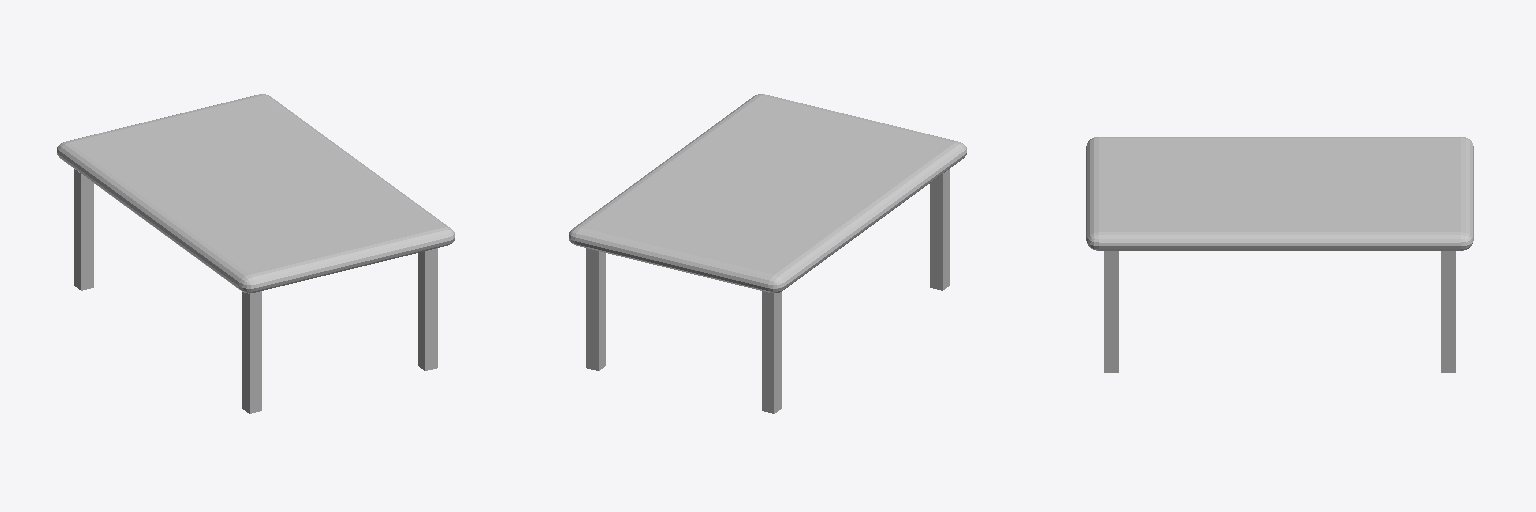
File: table.obj
3 renders of one model, left to right at view 1: azimuth 30°, elevation 25°; view 2: azimuth 150°, elevation 25°; view 3: azimuth 270°, elevation 25°, orthographic.
Parts seen in each view (by area): view 1: Tabletop_Cube.001, TableLegs_Cube.002; view 2: Tabletop_Cube.001, TableLegs_Cube.002; view 3: Tabletop_Cube.001, TableLegs_Cube.002.
Boxes of the visible parts, <box> form: Tabletop_Cube.001: <box>57,94,454,293</box>; TableLegs_Cube.002: <box>74,169,437,413</box>; Tabletop_Cube.001: <box>569,94,966,293</box>; TableLegs_Cube.002: <box>586,169,949,413</box>; Tabletop_Cube.001: <box>1086,137,1473,250</box>; TableLegs_Cube.002: <box>1104,251,1455,372</box>.
Bounding box in the file's own units: 1.69 × 1.06 × 2.63.